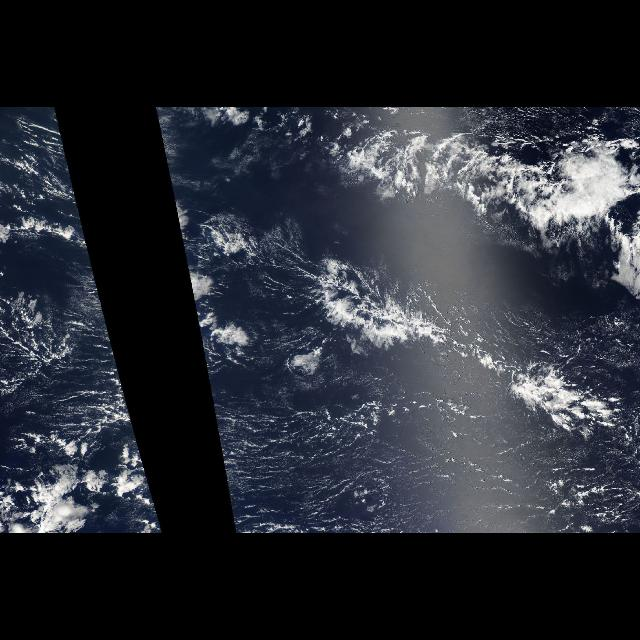Fish: (201, 114, 635, 446)
Gravel: (208, 372, 432, 532)
Sugar: (249, 412, 575, 528)
